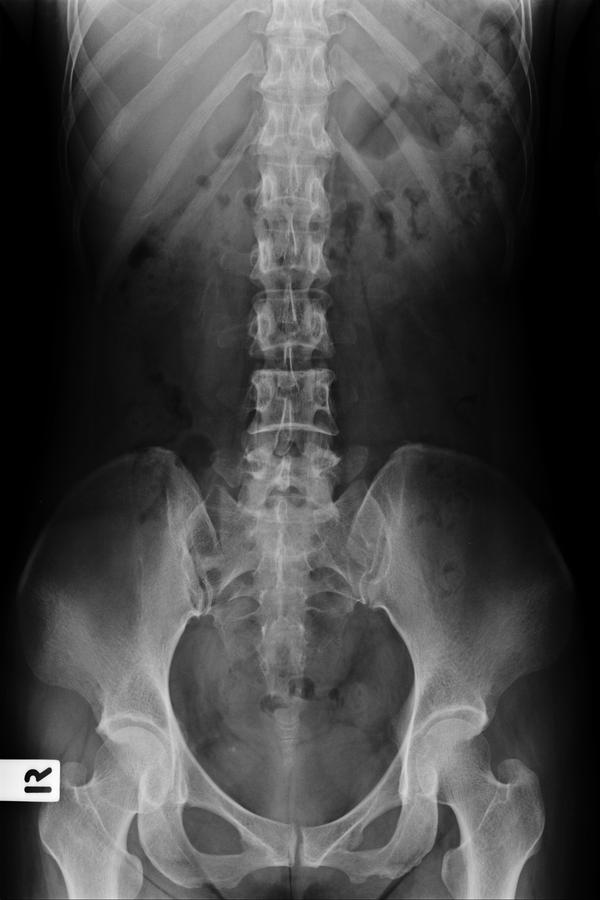not lumbar scoliosis: (236, 185, 342, 550)
